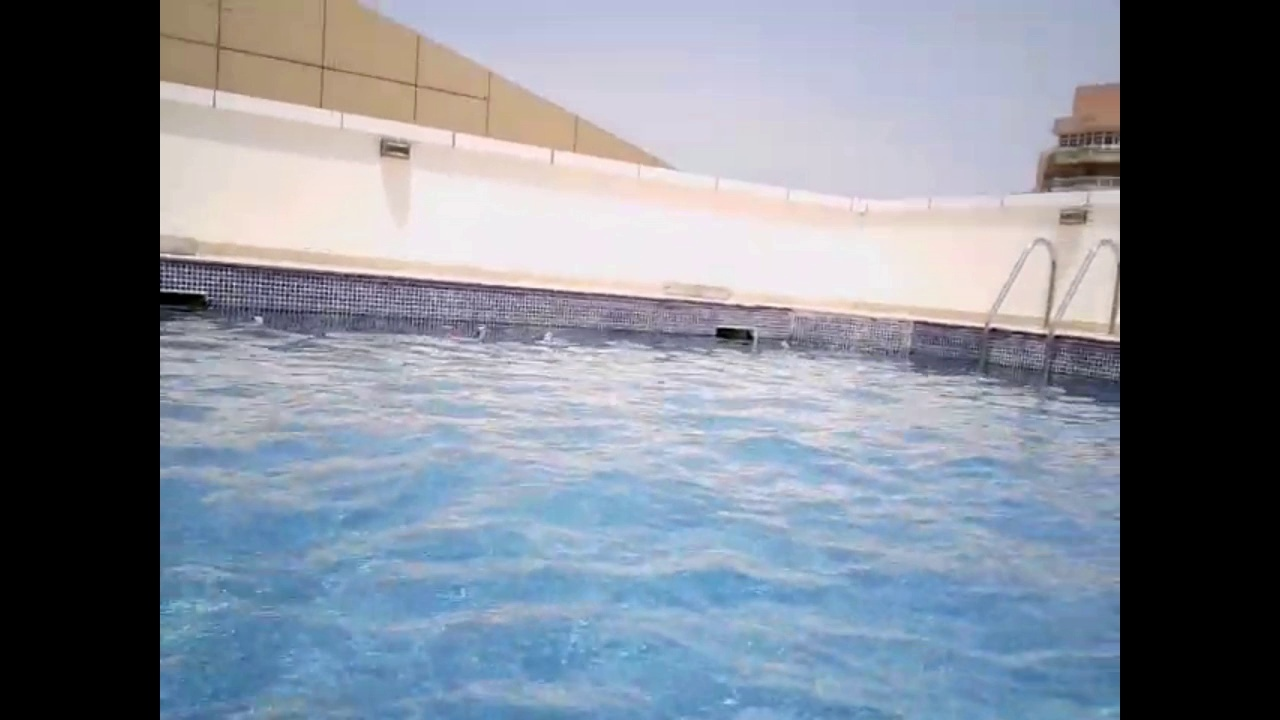debris: (469, 321, 491, 339), (536, 329, 555, 345), (778, 337, 793, 352), (252, 313, 264, 328)
